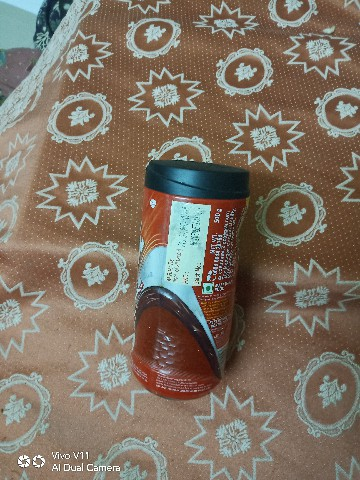boost big: (105, 146, 265, 408)
